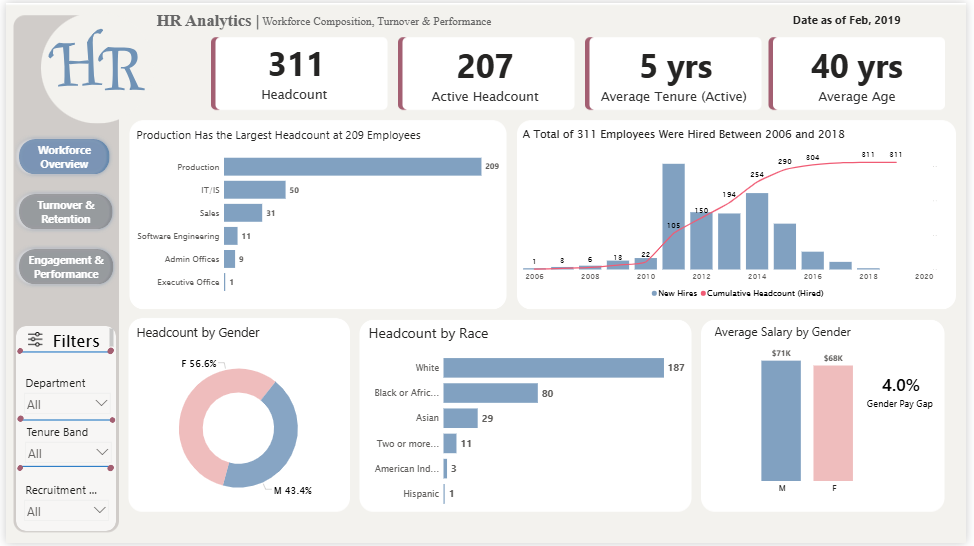

Layout of this report page (visuals, bound fields, positions):
{"tool":"powerbi","page":{"name":"Workforce Overview","canvas":[1920,1080],"ordinal":0},"visuals":[{"type":"shape","box":[20,646,200,410],"z":0},{"type":"slicer","fields":{"Values":["Dimdepartment.Department"]},"box":[25.3,738.7,193.2,90.3],"z":1000},{"type":"slicer","fields":{"Values":["Employees (working copy).RecruitmentSource"]},"box":[25.3,951.8,189.6,88.5],"z":2000},{"type":"slicer","fields":{"Values":["Employees (working copy).Tenure_Band"]},"box":[27.5,835,192.5,90],"z":3000},{"type":"card","title":"Total Headcount","fields":{"Values":["_Measures.Headcount (Display)"]},"box":[417.5,65,325,140],"z":4000},{"type":"card","title":"Active Headcount","fields":{"Values":["_Measures.Active Headcount (Display)"]},"box":[796.9,70.2,324.1,140.4],"z":5000},{"type":"card","title":"Total Headcount","fields":{"Values":["_Measures.Average Tenure (Active) (Display)"]},"box":[1174.5,75,330.5,128.9],"z":6000},{"type":"card","title":"Total Headcount","fields":{"Values":["_Measures.Average Age (Display)"]},"box":[1537.5,70,327.5,140],"z":7000},{"type":"clusteredBarChart","fields":{"Category":["Dimdepartment.Department","DimPosition.Position"],"Y":["_Measures.Headcount"]},"box":[255,247.5,735,352.5],"z":8000},{"type":"donutChart","fields":{"Category":["Employees (working copy).Gender"],"Y":["_Measures.Headcount"]},"box":[255,640,417.5,387.5],"z":9000},{"type":"clusteredBarChart","fields":{"Category":["Employees (working copy).RaceDesc"],"Y":["_Measures.Headcount"]},"box":[720,640,642.5,387.5],"z":10000},{"type":"lineStackedColumnComboChart","fields":{"Category":["DateTable.Year"],"Y":["_Measures.New Hires"],"Y2":["_Measures.Cumulative Headcount (Hired)"]},"box":[1027.5,245,875,355],"z":11000},{"type":"clusteredColumnChart","fields":{"Category":["Employees (working copy).Gender"],"Y":["_Measures.Average Salary"]},"box":[1412.5,640,385,355],"z":12000},{"type":"card","fields":{"Values":["_Measures.Gender Pay Gap % (Display)"]},"box":[1713.5,701.9,152.8,144.5],"z":13000},{"type":"shape","box":[1444.8,0,475,65],"z":14000},{"type":"textbox","box":[28.9,646.2,192,51.6],"z":15000},{"type":"shape","box":[30.7,827.2,185,12],"z":16000},{"type":"shape","box":[27.1,924.7,184.2,5.4],"z":17000},{"type":"shape","box":[30.7,688.1,182.4,19.9],"z":18000},{"type":"shape","box":[200.3,671,18.6,51.6],"z":19000},{"type":"shape","box":[20.6,671,16.5,51.6],"z":20000},{"type":"shape","box":[204.1,825.4,18.1,16.3],"z":21000},{"type":"shape","box":[19.9,816.3,18.1,30.7],"z":22000},{"type":"shape","box":[20.6,900.1,16.5,59.9],"z":23000},{"type":"shape","box":[200.3,900.1,18.6,59.9],"z":24000},{"type":"image","box":[37.2,658.6,40,29],"z":25000},{"type":"actionButton","box":[17.7,264.1,197.1,86.7],"z":26000},{"type":"actionButton","box":[17.7,373.6,203,86.7],"z":27000},{"type":"actionButton","box":[17.7,483.1,204.4,86.7],"z":28000},{"type":"image","box":[31,18.6,305.5,223],"z":29000},{"type":"shape","box":[212,2,384,64],"z":30000},{"type":"shape","box":[504,8,492,58],"z":31000}]}

Visuals, with their boxes in screenshot pixels (x1, y1, x2, y2), scaled from the page's 1920x1080 canvas onto the 974x546 screenshot:
shape: {"x1": 10, "y1": 327, "x2": 112, "y2": 534}
slicer - Dimdepartment.Department: {"x1": 13, "y1": 373, "x2": 111, "y2": 419}
slicer - Employees (working copy).RecruitmentSource: {"x1": 13, "y1": 481, "x2": 109, "y2": 526}
slicer - Employees (working copy).Tenure_Band: {"x1": 14, "y1": 422, "x2": 112, "y2": 468}
"Total Headcount" card: {"x1": 212, "y1": 33, "x2": 377, "y2": 104}
"Active Headcount" card: {"x1": 404, "y1": 35, "x2": 569, "y2": 106}
"Total Headcount" card: {"x1": 596, "y1": 38, "x2": 763, "y2": 103}
"Total Headcount" card: {"x1": 780, "y1": 35, "x2": 946, "y2": 106}
clusteredBarChart - Dimdepartment.Department x DimPosition.Position: {"x1": 129, "y1": 125, "x2": 502, "y2": 303}
donutChart - Employees (working copy).Gender x _Measures.Headcount: {"x1": 129, "y1": 324, "x2": 341, "y2": 519}
clusteredBarChart - Employees (working copy).RaceDesc x _Measures.Headcount: {"x1": 365, "y1": 324, "x2": 691, "y2": 519}
lineStackedColumnComboChart - DateTable.Year x _Measures.New Hires: {"x1": 521, "y1": 124, "x2": 965, "y2": 303}
clusteredColumnChart - Employees (working copy).Gender x _Measures.Average Salary: {"x1": 717, "y1": 324, "x2": 912, "y2": 503}
card - _Measures.Gender Pay Gap % (Display): {"x1": 869, "y1": 355, "x2": 947, "y2": 428}
shape: {"x1": 733, "y1": 0, "x2": 973, "y2": 33}
textbox: {"x1": 15, "y1": 327, "x2": 112, "y2": 353}
shape: {"x1": 16, "y1": 418, "x2": 109, "y2": 424}
shape: {"x1": 14, "y1": 467, "x2": 107, "y2": 470}
shape: {"x1": 16, "y1": 348, "x2": 108, "y2": 358}
shape: {"x1": 102, "y1": 339, "x2": 111, "y2": 365}
shape: {"x1": 10, "y1": 339, "x2": 19, "y2": 365}
shape: {"x1": 104, "y1": 417, "x2": 113, "y2": 426}
shape: {"x1": 10, "y1": 413, "x2": 19, "y2": 428}
shape: {"x1": 10, "y1": 455, "x2": 19, "y2": 485}
shape: {"x1": 102, "y1": 455, "x2": 111, "y2": 485}
image: {"x1": 19, "y1": 333, "x2": 39, "y2": 348}
actionButton: {"x1": 9, "y1": 134, "x2": 109, "y2": 177}
actionButton: {"x1": 9, "y1": 189, "x2": 112, "y2": 233}
actionButton: {"x1": 9, "y1": 244, "x2": 113, "y2": 288}
image: {"x1": 16, "y1": 9, "x2": 171, "y2": 122}
shape: {"x1": 108, "y1": 1, "x2": 302, "y2": 33}
shape: {"x1": 256, "y1": 4, "x2": 505, "y2": 33}
